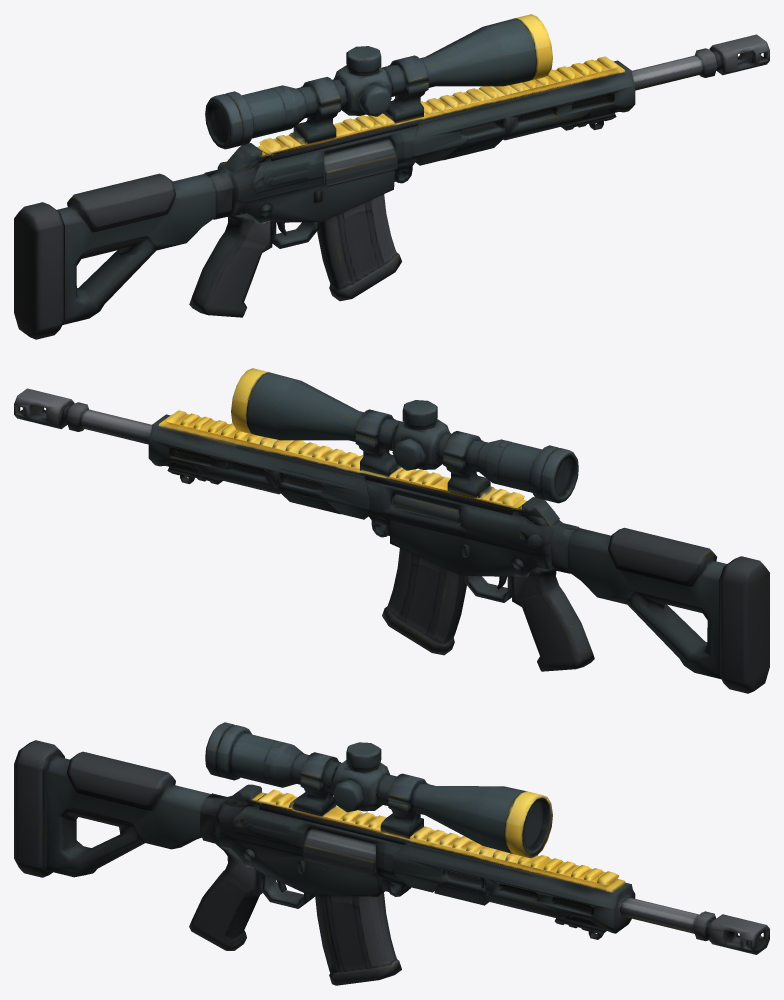
Rendered from marksman-rifle.glb.
3 renders of one model, top to bottom at view 1: azimuth 30°, elevation 25°; view 2: azimuth 150°, elevation 25°; view 3: azimuth 330°, elevation 25°, orthographic.
Parts seen in each view (by area): view 1: tripo_node_d7c0b16f-9950-4f5b-90dc-14e3d10816fd; view 2: tripo_node_d7c0b16f-9950-4f5b-90dc-14e3d10816fd; view 3: tripo_node_d7c0b16f-9950-4f5b-90dc-14e3d10816fd.
Boxes of the visible parts, box(x1,y1,x2,y2) form: tripo_node_d7c0b16f-9950-4f5b-90dc-14e3d10816fd: box(14, 14, 769, 339); tripo_node_d7c0b16f-9950-4f5b-90dc-14e3d10816fd: box(14, 368, 769, 693); tripo_node_d7c0b16f-9950-4f5b-90dc-14e3d10816fd: box(14, 722, 769, 985).
Size of the model in its own units: 0.9995 by 0.3101 by 0.0806.
Materials: 1 (1 with a texture image).
